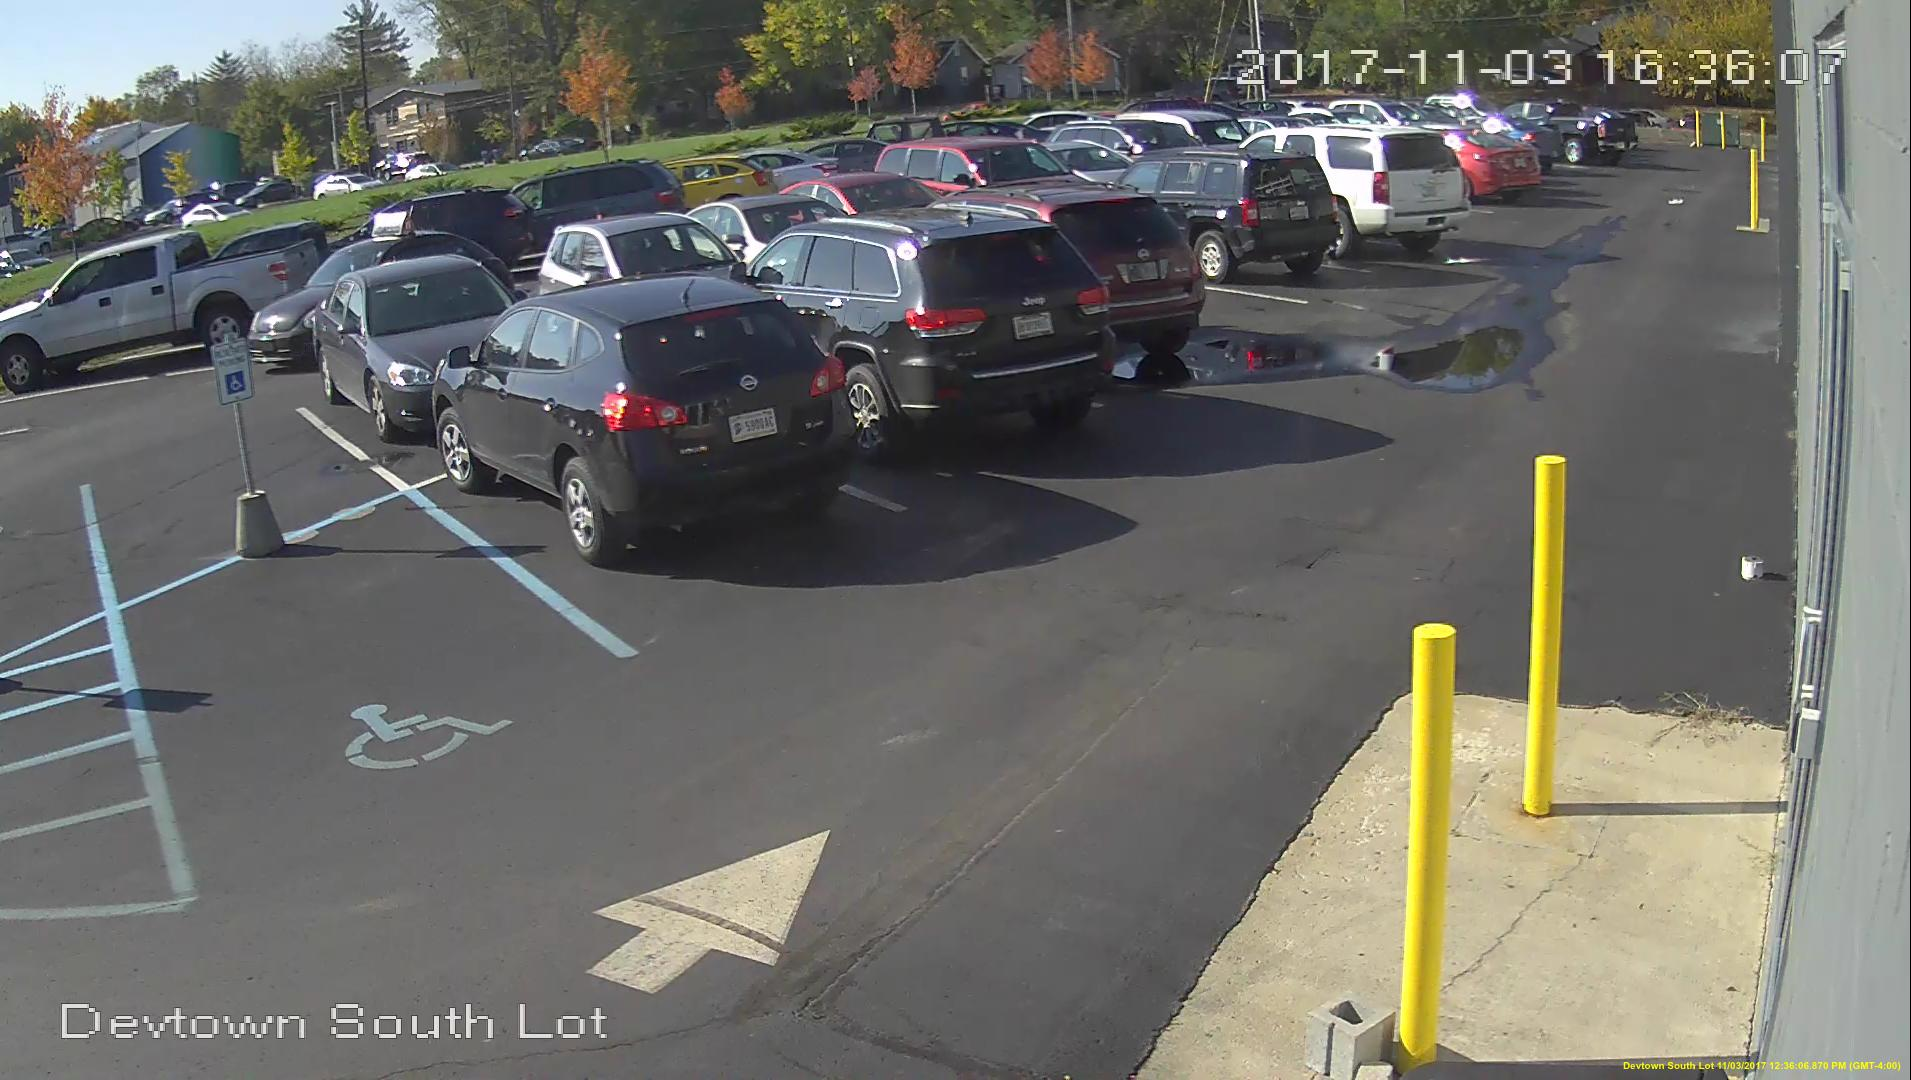jimmy_johns: (370, 210, 415, 241)
